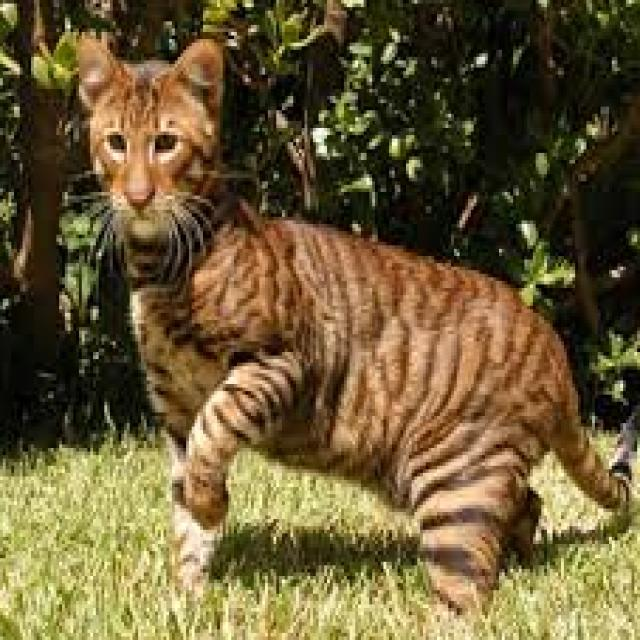Toyger: (70, 28, 640, 640)
